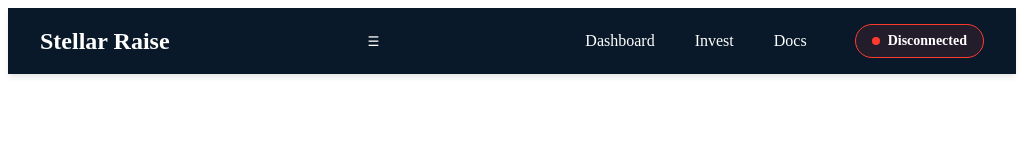
3. Mobile Menu Toggle - State › 3.5 clicking toggle again closes the menu
Click the button named "toggle navigation menu" at (374, 41), box [360,26,388,56]
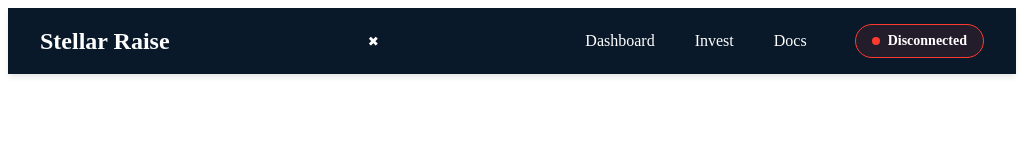
Click the button named "toggle navigation menu" at (374, 41), box [360,26,387,56]
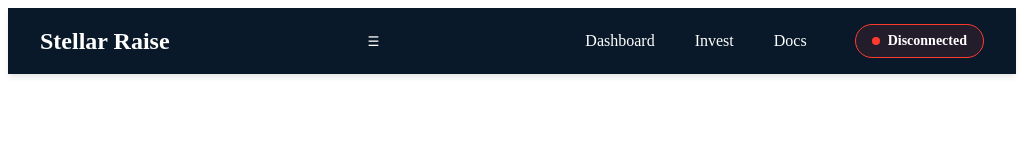
expect the button named "toggle navigation menu" is collapsed: met, box [360,26,388,56]
